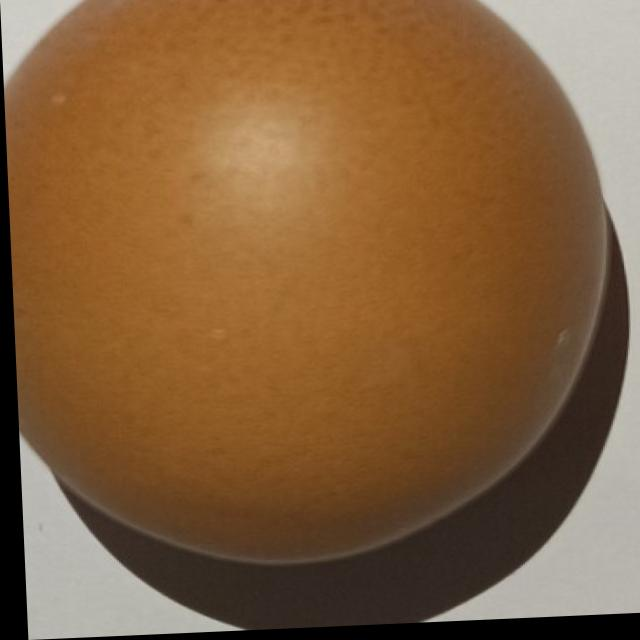unfresh: (0, 0, 616, 588)
